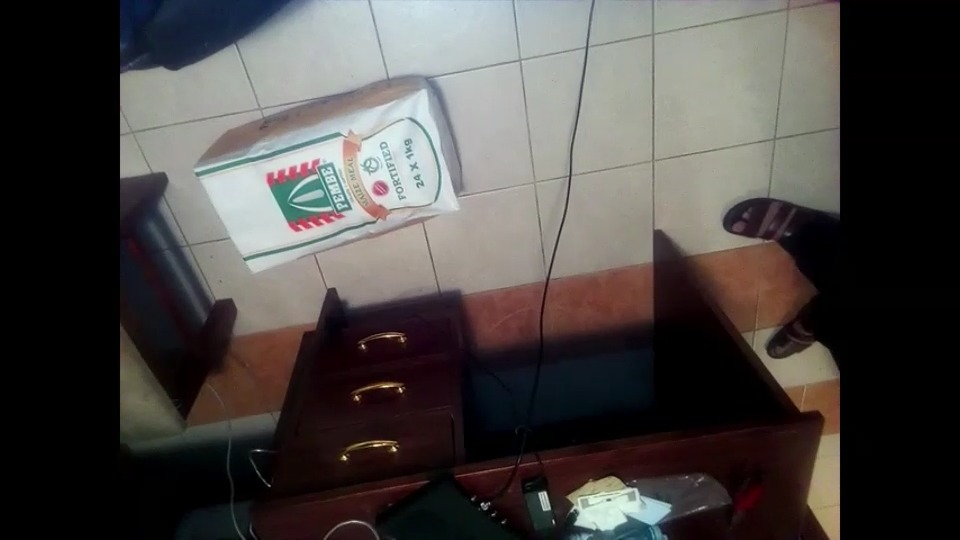maize_flour_green_label: (199, 73, 470, 268)
